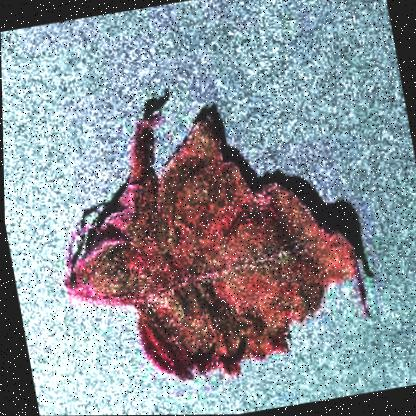Virus: (31, 60, 383, 402)
